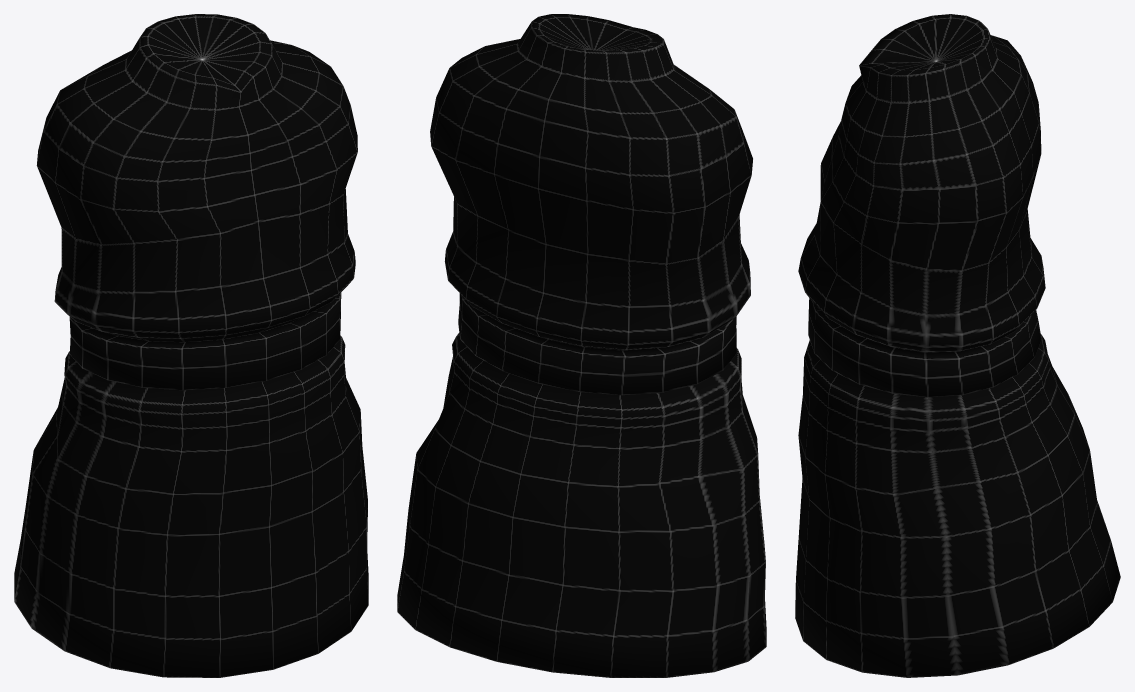
File: Avatar_torso.fbx
3 renders of one model, left to right at view 1: azimuth 30°, elevation 25°; view 2: azimuth 150°, elevation 25°; view 3: azimuth 270°, elevation 25°, orthographic. The views are drawn at different scales.
Visible parts, largest first — view 1: Torso; view 2: Torso; view 3: Torso.
Part boxes in pixels (x1=…): Torso: x1=14, y1=14, x2=368, y2=677; Torso: x1=397, y1=14, x2=766, y2=677; Torso: x1=795, y1=14, x2=1120, y2=677.
Bounding box in the file's own units: 1.5 × 2.6 × 1.32.
